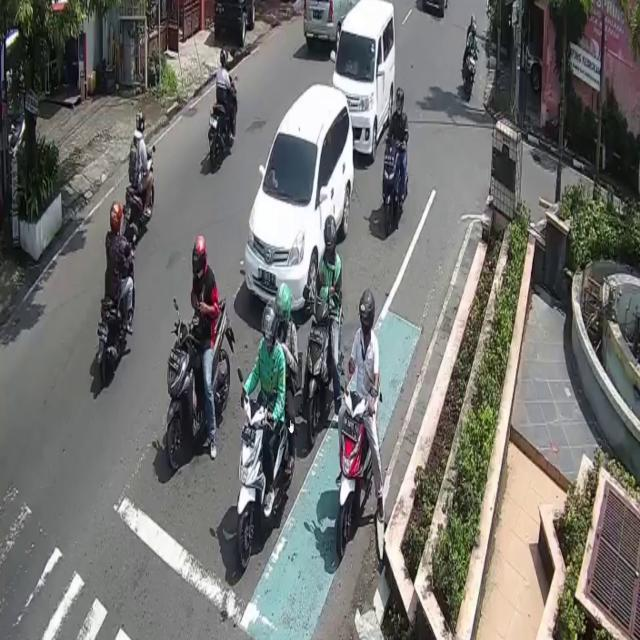car: (252, 79, 356, 301), (338, 0, 401, 148), (303, 0, 356, 48)
motorbike: (163, 297, 234, 474), (237, 396, 290, 568), (94, 242, 136, 389), (337, 387, 372, 555), (305, 298, 333, 447), (124, 149, 154, 243), (210, 76, 238, 171), (384, 137, 401, 234), (467, 46, 476, 104)
